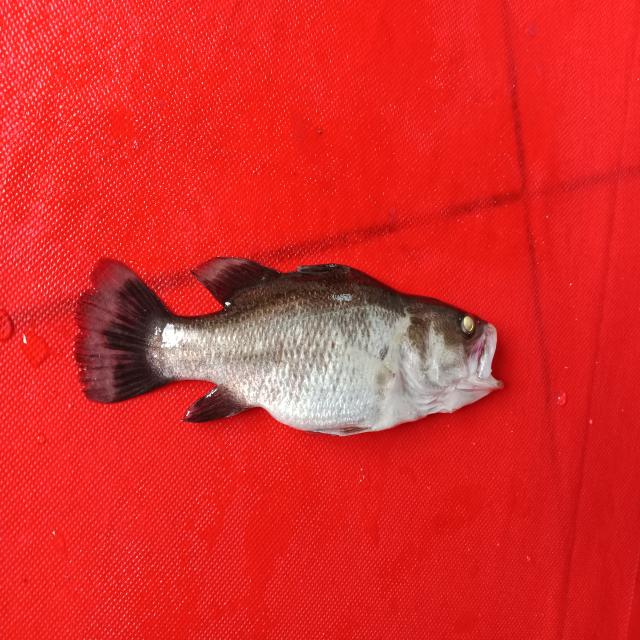ikan: (62, 220, 515, 450)
